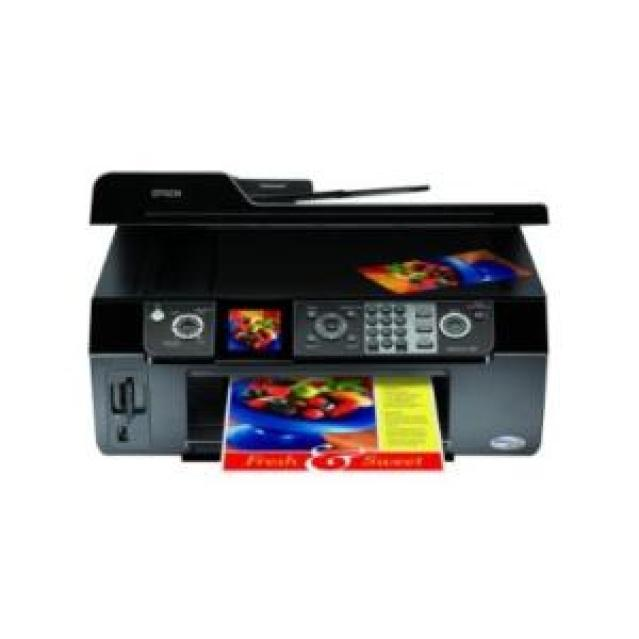Printer: (88, 170, 548, 472)
